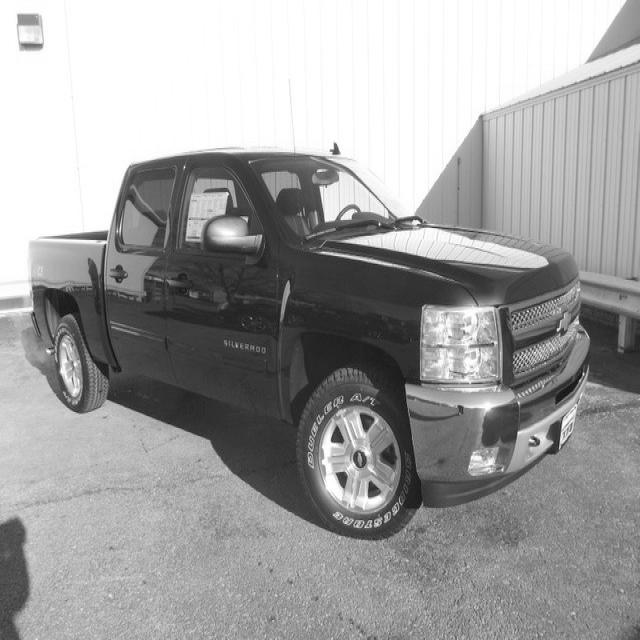car: (27, 141, 591, 540)
